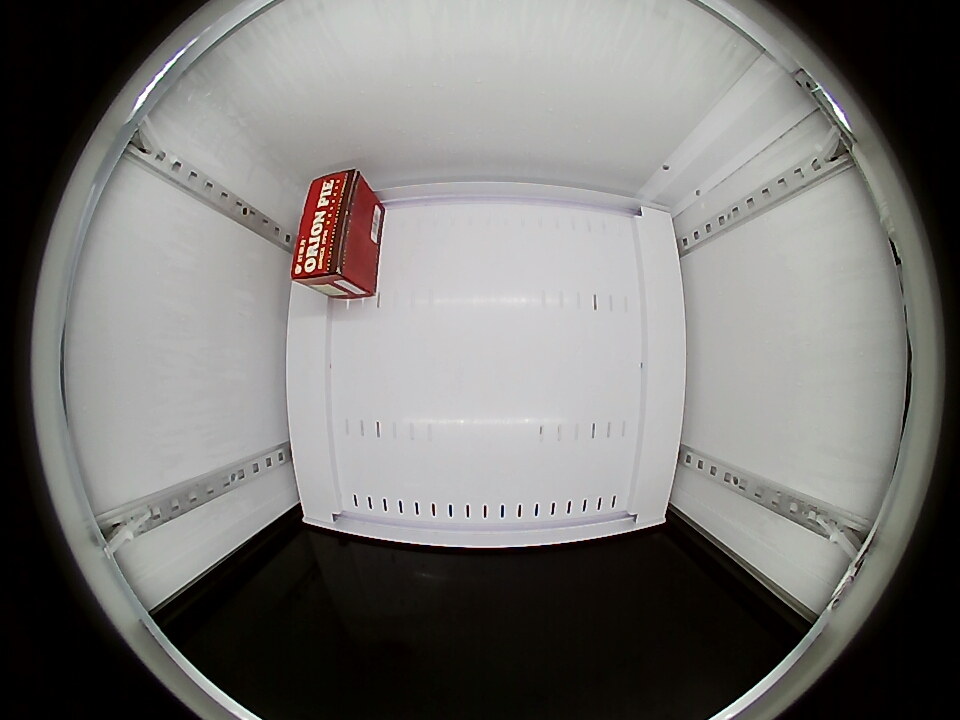haoliyou: (291, 169, 376, 295)
